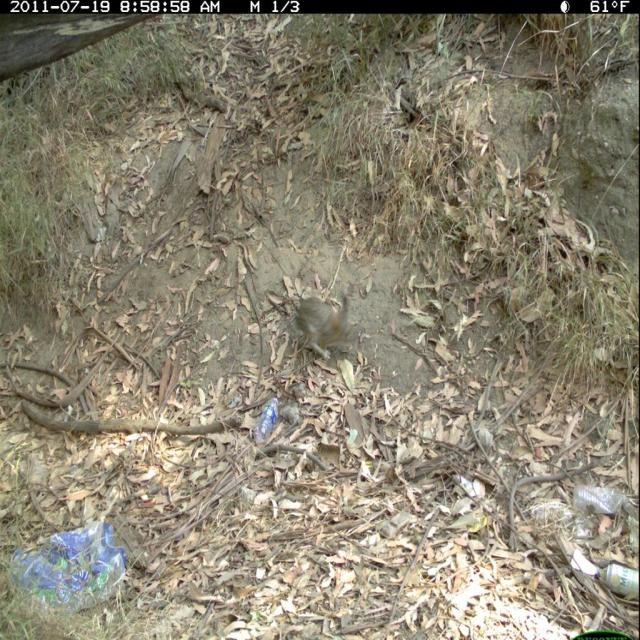rabbit: (291, 285, 365, 364)
